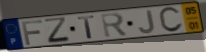C: (158, 6, 185, 34)
F: (20, 19, 44, 47)
J: (137, 9, 156, 34)
R: (100, 12, 130, 40)
T: (76, 14, 97, 40)
Z: (42, 16, 73, 45)
